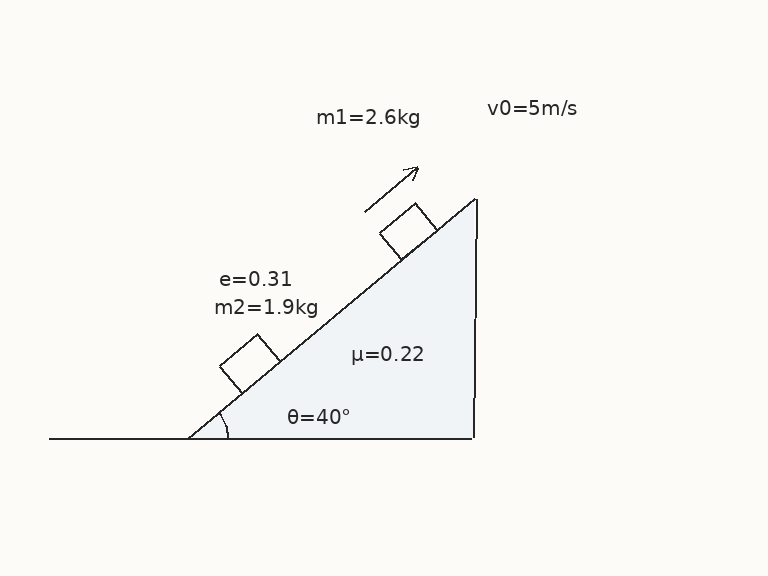block: (217, 332, 281, 395), (377, 201, 439, 261)
ramp: (186, 196, 476, 440)
